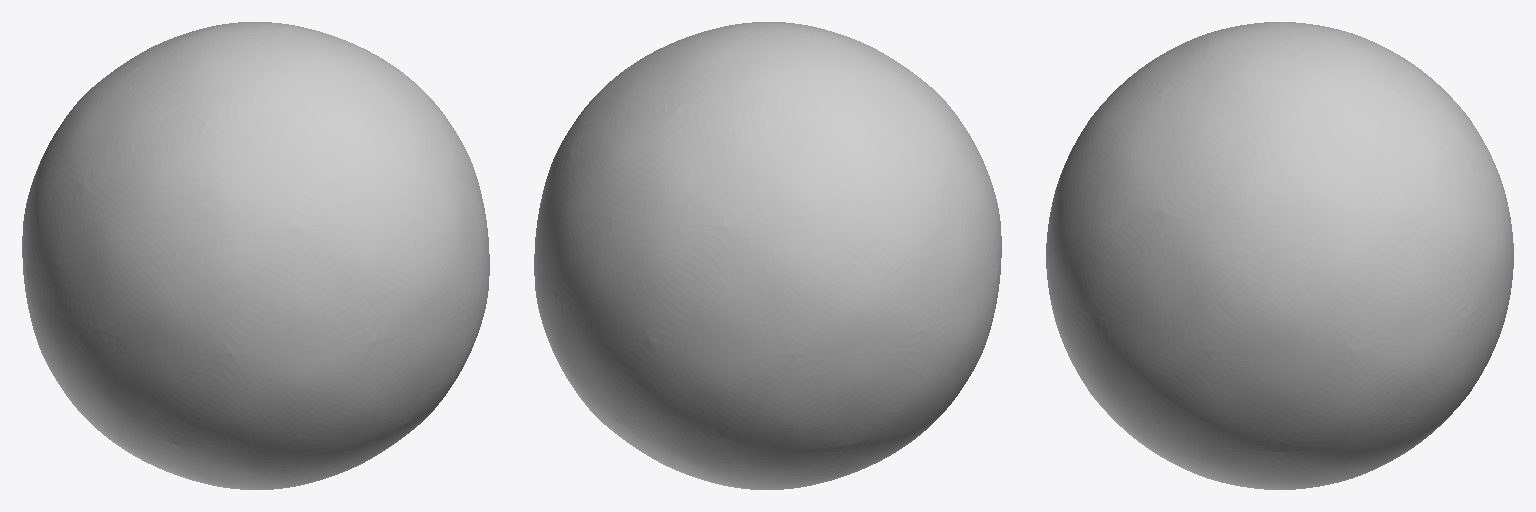
File: bubbleBomb.obj
3 views of the same model, side by side, from view 1: azimuth 30°, elevation 25°; view 2: azimuth 150°, elevation 25°; view 3: azimuth 270°, elevation 25° (orthographic).
Parts seen in each view (by area): view 1: Icosphere; view 2: Icosphere; view 3: Icosphere.
Part boxes in pixels (left/top/right/bottom): Icosphere: left=22, top=22, right=489, bottom=489; Icosphere: left=534, top=22, right=1001, bottom=489; Icosphere: left=1046, top=22, right=1513, bottom=489.
Size of the model in its own units: 1.01 by 1.02 by 1.01.